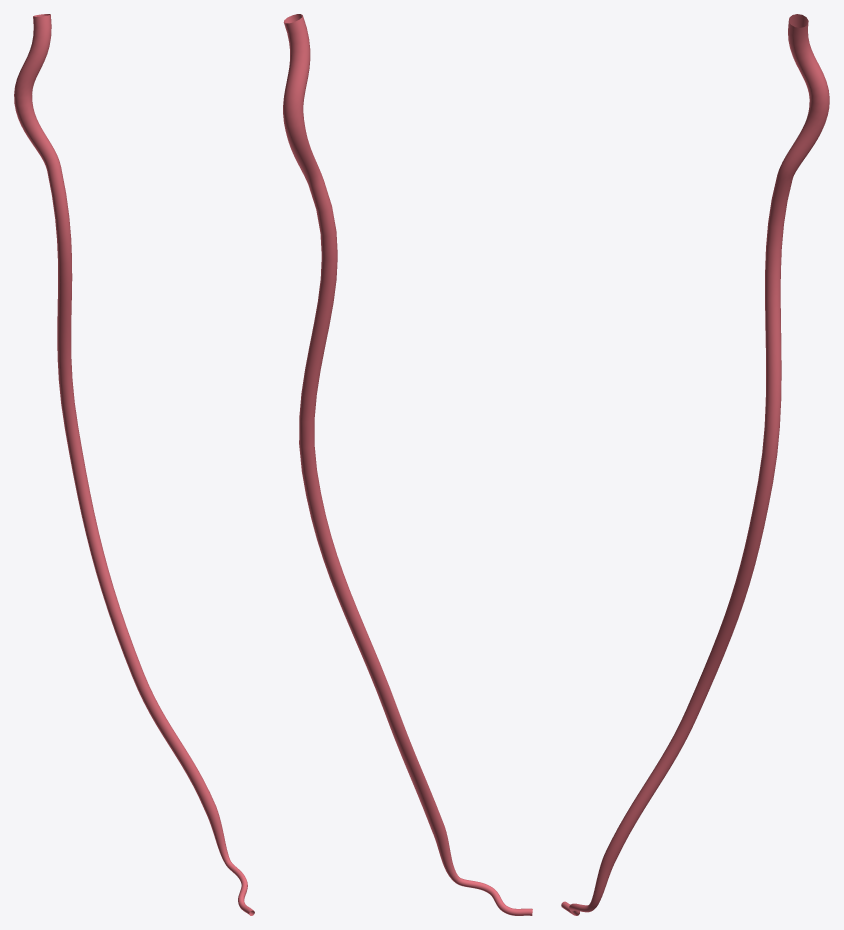
The picture shows the model from 3 angles, left to right: view 1: azimuth 90°, elevation 25°; view 2: azimuth 150°, elevation 25°; view 3: azimuth 270°, elevation 25°; orthographic projection. The views are drawn at different scales.
Visible parts, largest first — view 1: ZA_ab757fed9eccb5b3; view 2: ZA_ab757fed9eccb5b3; view 3: ZA_ab757fed9eccb5b3.
Boxes of the visible parts, left/top/right/bottom form: ZA_ab757fed9eccb5b3: left=14, top=14, right=254, bottom=915; ZA_ab757fed9eccb5b3: left=283, top=14, right=532, bottom=915; ZA_ab757fed9eccb5b3: left=561, top=14, right=829, bottom=915.
Size of the model in its own units: 0.0296 by 0.207 by 0.0531.
